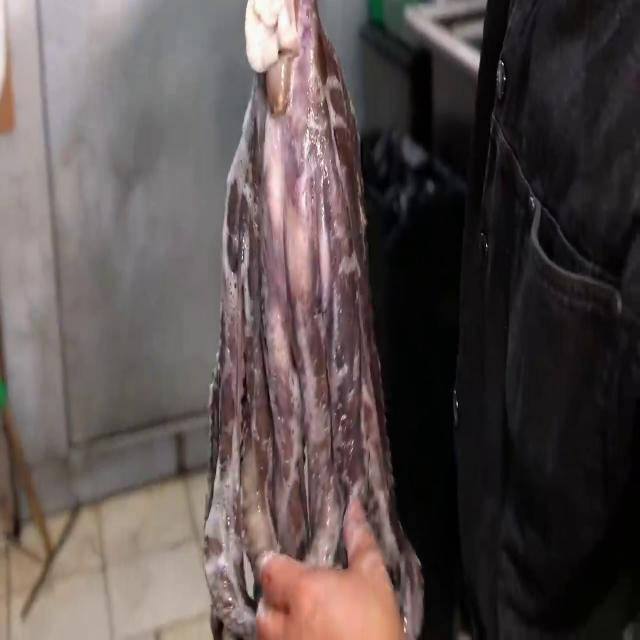octopus: (200, 0, 427, 640)
